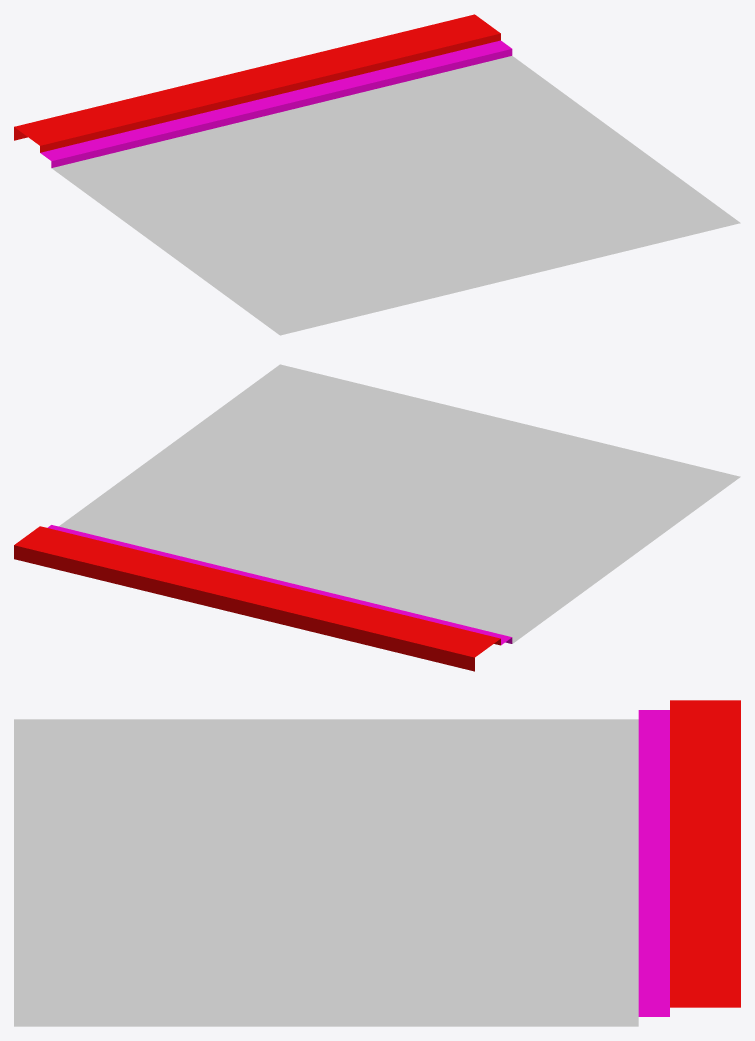
File: Floor-Side.fbx
3 renders of one model, top to bottom at view 1: azimuth 30°, elevation 25°; view 2: azimuth 150°, elevation 25°; view 3: azimuth 270°, elevation 25°, orthographic. The views are drawn at different scales.
Visible parts, largest first — view 1: Side; view 2: Side; view 3: Side.
Boxes of the visible parts, x1,y1,x2,y2 form: Side: (14,14,740,335); Side: (14,364,740,671); Side: (14,700,740,1026).
Bounding box in the file's own units: 78.74 × 2.28 × 78.74.
